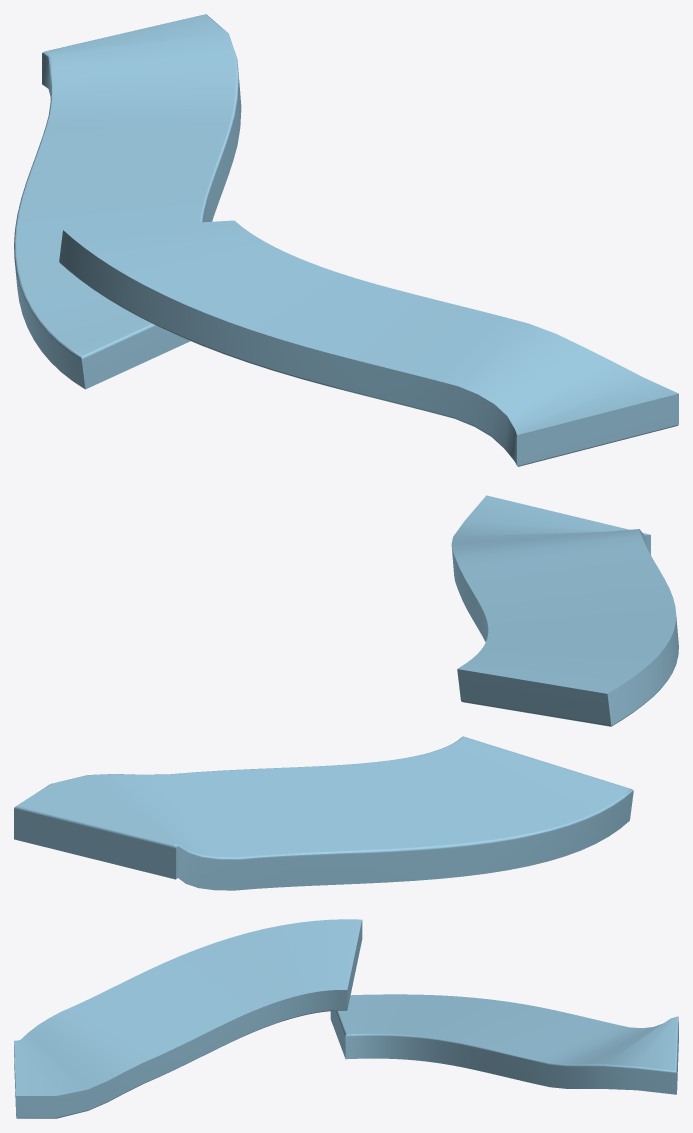
File: Track_C_resubmit_3.fbx
The picture shows the model from 3 angles, top to bottom: view 1: azimuth 30°, elevation 25°; view 2: azimuth 150°, elevation 25°; view 3: azimuth 270°, elevation 25°; orthographic projection. The views are drawn at different scales.
Parts seen in each view (by area): view 1: plane4; view 2: plane4; view 3: plane4.
Boxes of the visible parts, box(x1,y1,x2,y2) form: plane4: box(14, 14, 678, 466); plane4: box(14, 495, 678, 890); plane4: box(14, 919, 678, 1118).
Size of the model in its own units: 8 by 2.93 by 17.63.
